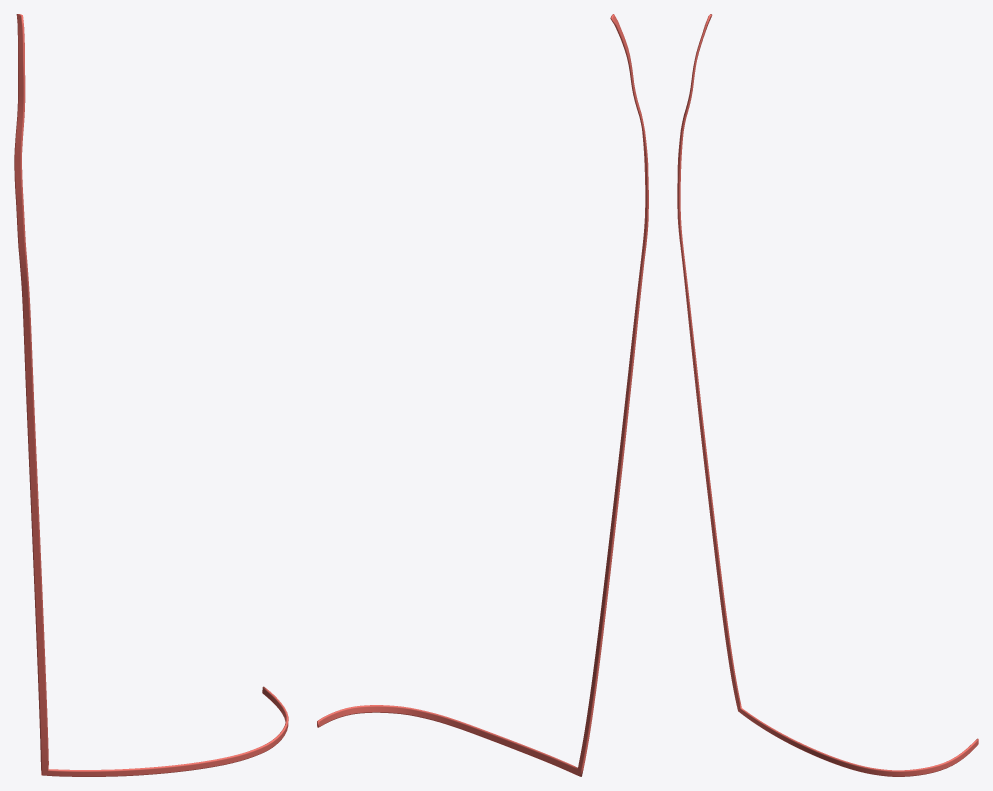
The picture shows the model from 3 angles, left to right: view 1: azimuth 30°, elevation 25°; view 2: azimuth 150°, elevation 25°; view 3: azimuth 330°, elevation 25°; orthographic projection. The views are drawn at different scales.
Parts seen in each view (by area): view 1: Object_2; view 2: Object_2; view 3: Object_2.
Boxes of the visible parts, left/top/right/bottom form: Object_2: left=14, top=14, right=288, bottom=776; Object_2: left=317, top=14, right=648, bottom=776; Object_2: left=677, top=14, right=978, bottom=776.
Size of the model in its own units: 0.3151 by 0.8024 by 0.0952.
